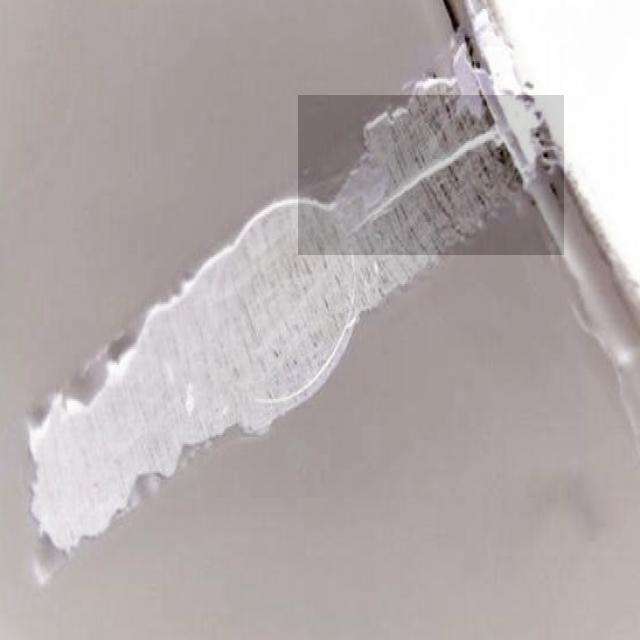crack: (299, 97, 565, 257)
